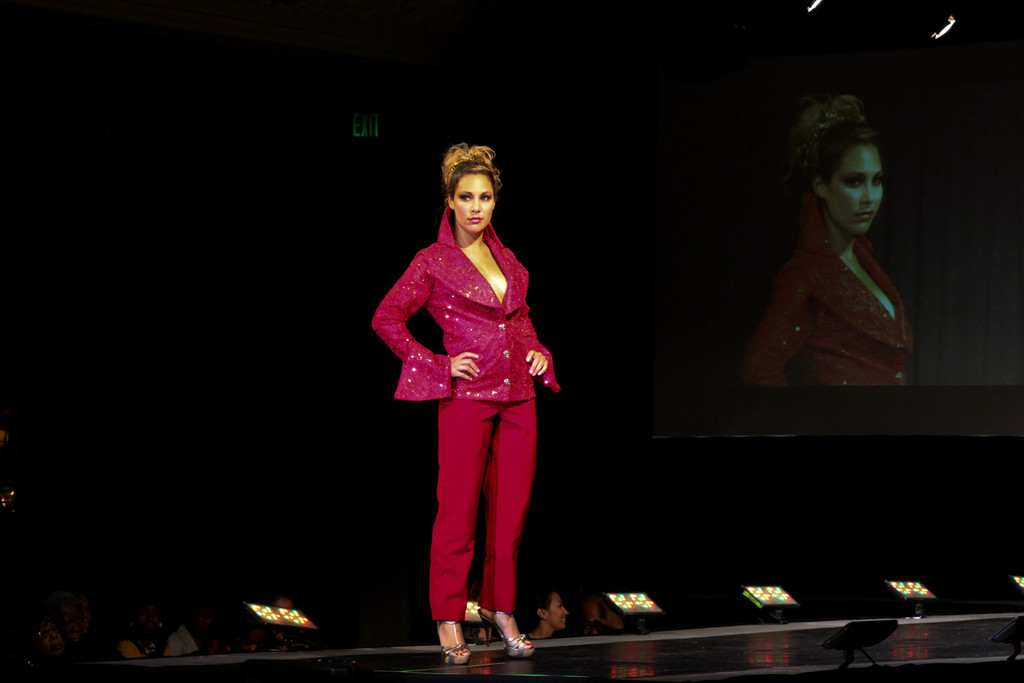Footwear: (476, 607, 538, 657)
